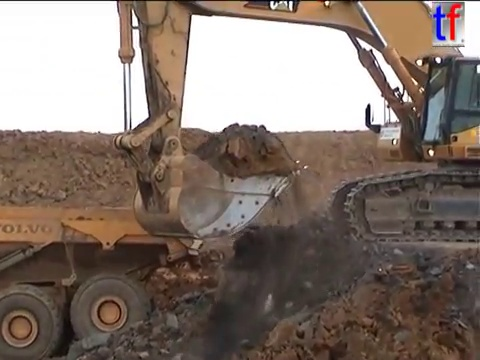excavator: (110, 1, 480, 247)
truck: (1, 202, 197, 360)
